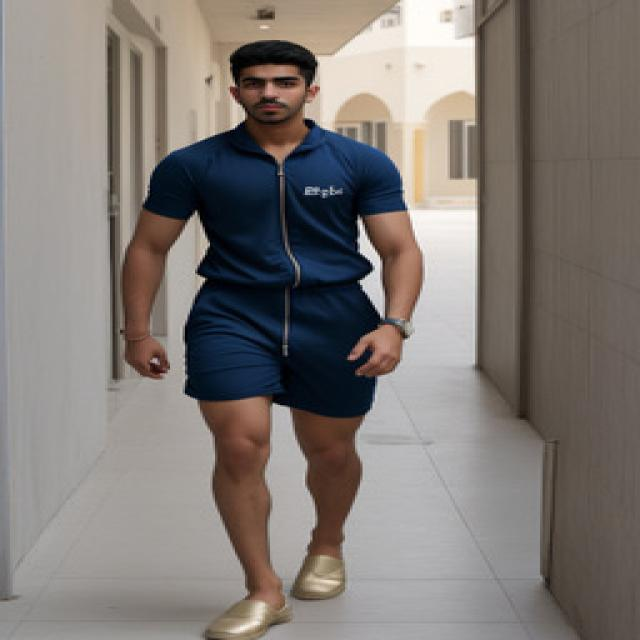Ai human 2: (102, 27, 445, 640)
